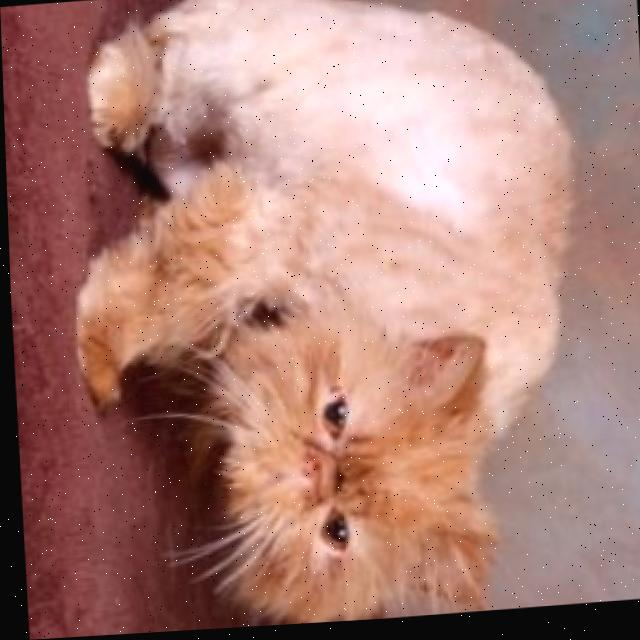Persian: (49, 0, 598, 638)
